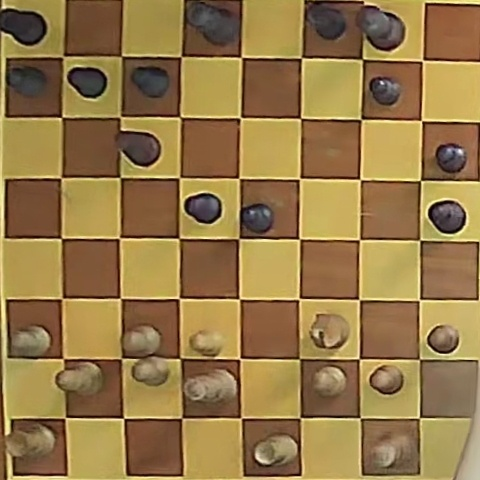black-bishop: (428, 201, 466, 234)
black-king: (358, 6, 405, 50)
black-knight: (117, 132, 160, 166)
black-pawn: (67, 67, 107, 99), (131, 66, 170, 98), (7, 66, 47, 97), (185, 193, 222, 224), (241, 203, 273, 233), (435, 144, 467, 173), (369, 77, 401, 105)
black-queen: (186, 2, 239, 46)
black-rook: (0, 8, 47, 47), (305, 3, 347, 41)
white-bishop: (57, 362, 104, 395)
white-king: (370, 433, 414, 471)
white-knight: (310, 313, 349, 348)
white-pawn: (10, 325, 51, 357), (122, 325, 161, 356), (132, 356, 171, 386), (312, 366, 347, 397), (369, 364, 404, 395), (189, 329, 225, 356), (427, 325, 459, 353)
white-queen: (183, 370, 236, 403)
white-rook: (6, 423, 57, 460), (253, 434, 298, 467)
